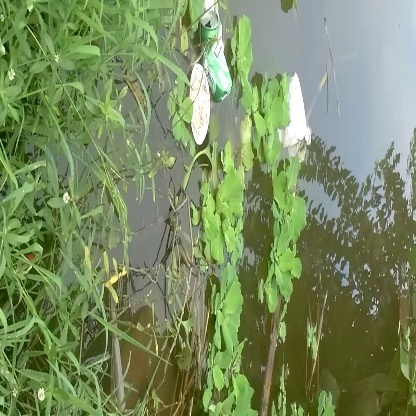bottle: (197, 9, 237, 102)
